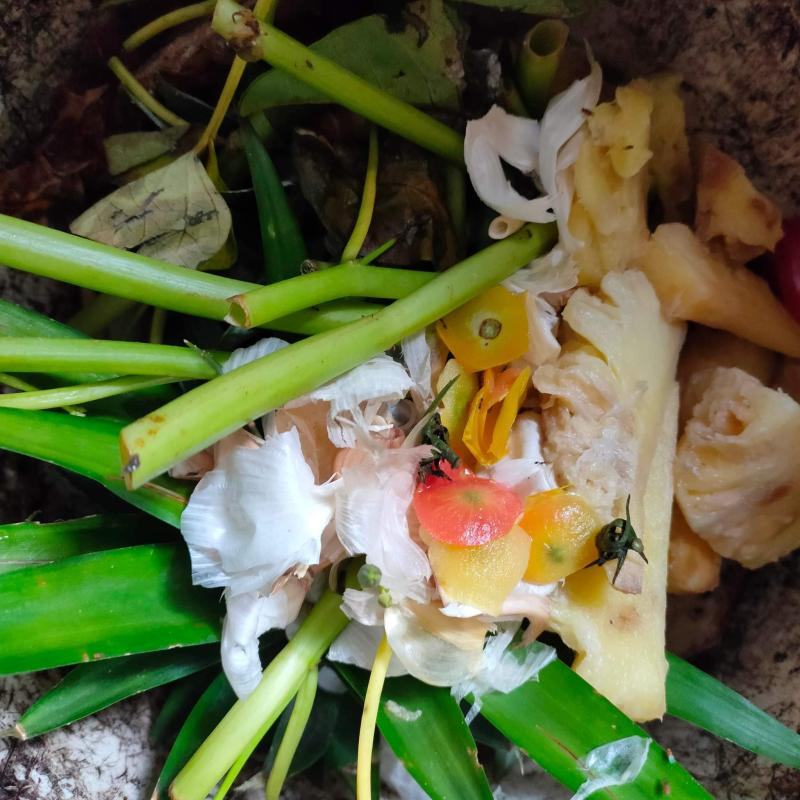fruit peels: (0, 515, 222, 750), (478, 659, 716, 800), (664, 653, 800, 771), (375, 674, 494, 800), (417, 523, 533, 617), (414, 461, 525, 546), (432, 283, 530, 373), (462, 360, 536, 468)
left-over food: (502, 270, 688, 725), (567, 72, 694, 288), (674, 371, 800, 570), (629, 222, 800, 354), (695, 143, 783, 266)
treeleaves: (70, 53, 249, 272)
vegetable peels: (118, 223, 558, 491), (211, 0, 464, 271), (228, 0, 470, 280), (335, 434, 555, 727), (0, 299, 219, 529), (181, 424, 348, 698), (464, 39, 605, 251), (0, 214, 265, 322), (290, 353, 419, 449)
